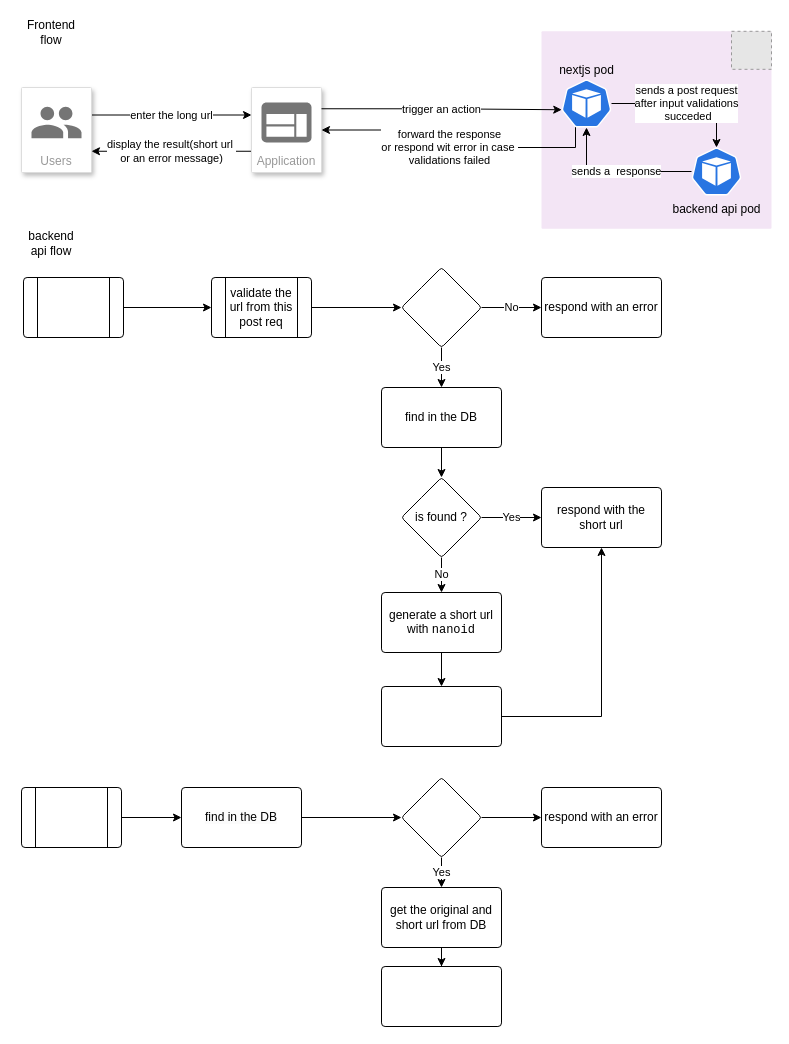
Image size: 789x1044. Some labels were removed from this diagram. Grey dashed boxes stand in for pictures. Each missing label, with the centre of its shape:
is found?: (x=441, y=817)
is valid?: (x=441, y=307)
recieves a get request: (x=71, y=817)
recieves a post request: (x=73, y=307)
respond to redirect to the original url: (x=441, y=996)
save in the DB: (x=441, y=716)
